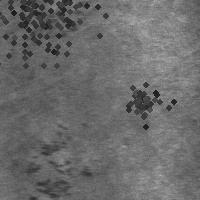rolled-in_scale: (9, 0, 121, 59), (0, 0, 78, 78), (22, 118, 94, 200), (115, 72, 167, 124), (39, 1, 85, 40)
